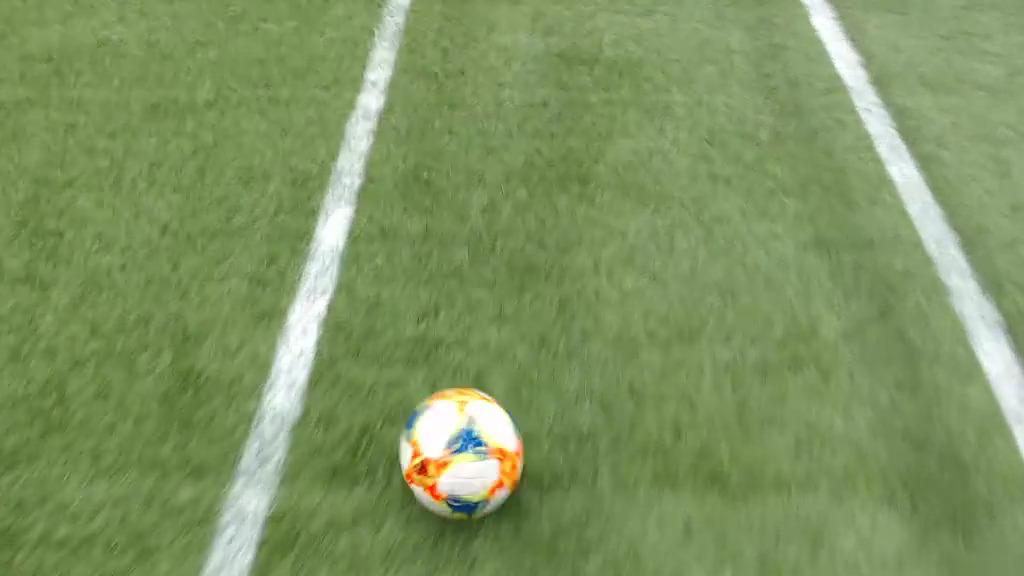ball: (400, 384, 526, 525)
